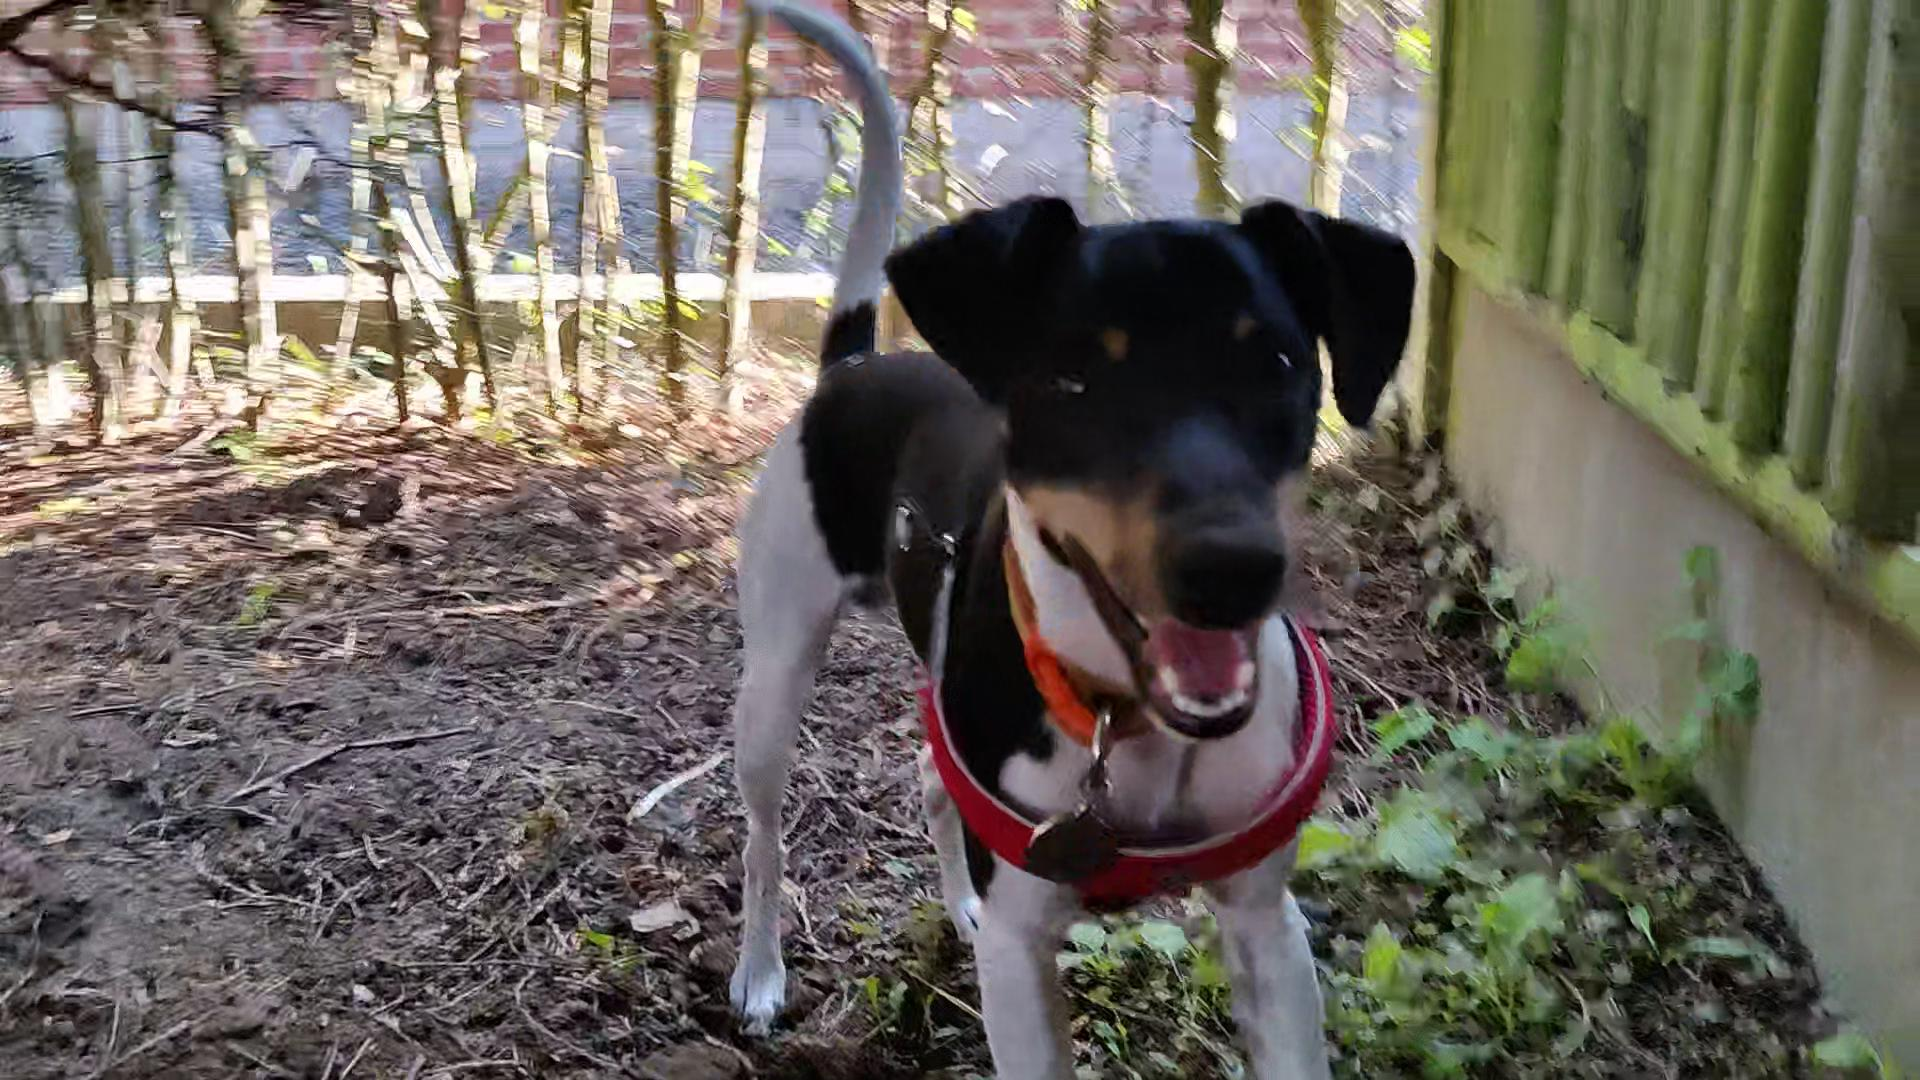Dog: (713, 0, 1418, 1079)
